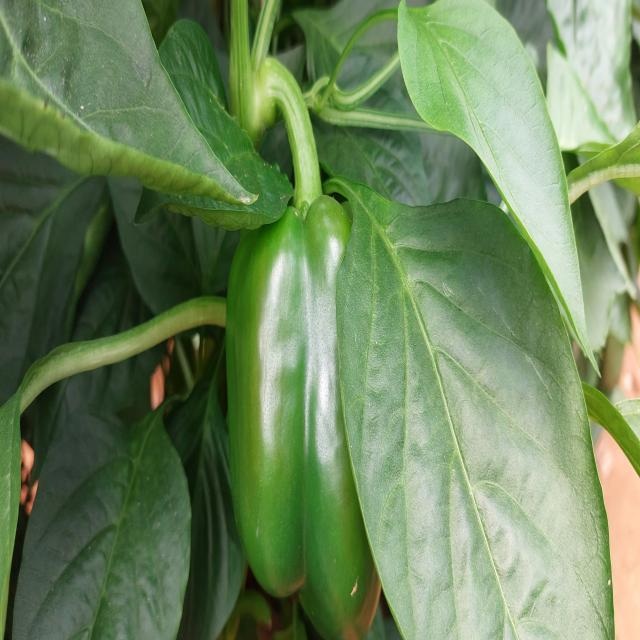Green--Not-ready-to-harvest: (225, 193, 394, 639)
